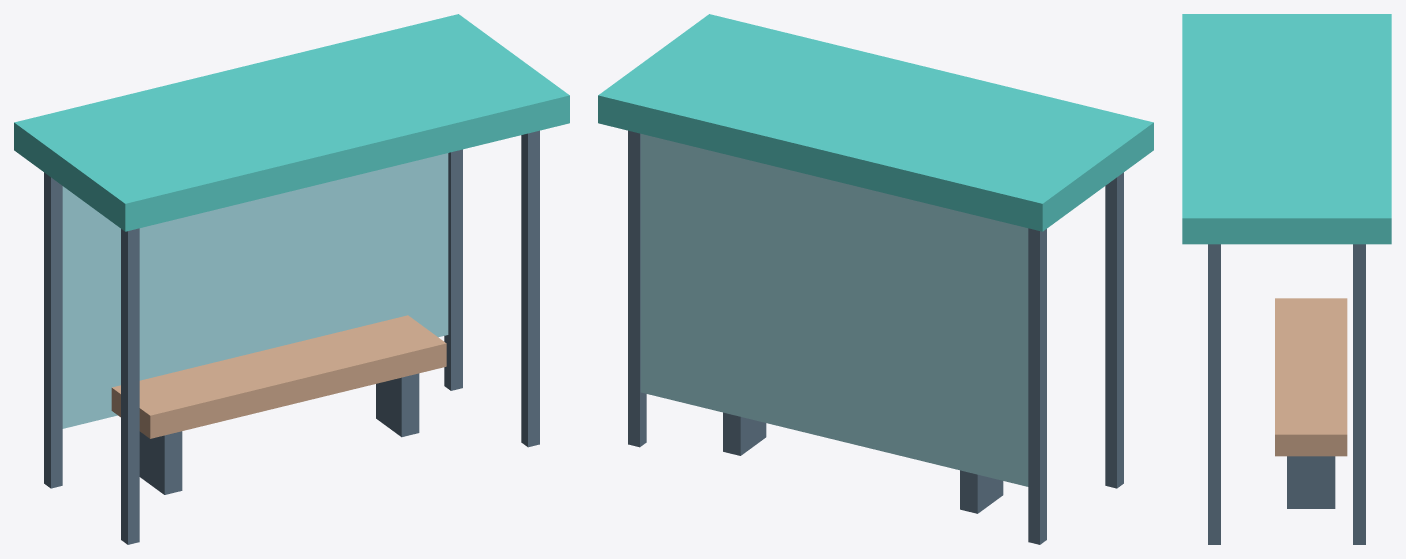
The model's file is 18_bus_shelter.glb.
The picture shows the model from 3 angles, left to right: view 1: azimuth 30°, elevation 25°; view 2: azimuth 150°, elevation 25°; view 3: azimuth 270°, elevation 25°; orthographic projection. The views are drawn at different scales.
Parts seen in each view (by area): view 1: 18_bus_shelter; view 2: 18_bus_shelter; view 3: 18_bus_shelter.
Part boxes in pixels (x1,y1,x2,y2): 18_bus_shelter: [14, 14, 569, 544]; 18_bus_shelter: [598, 14, 1153, 544]; 18_bus_shelter: [1182, 14, 1391, 544].
Size of the model in its own units: 3 by 2.29 by 1.3.
